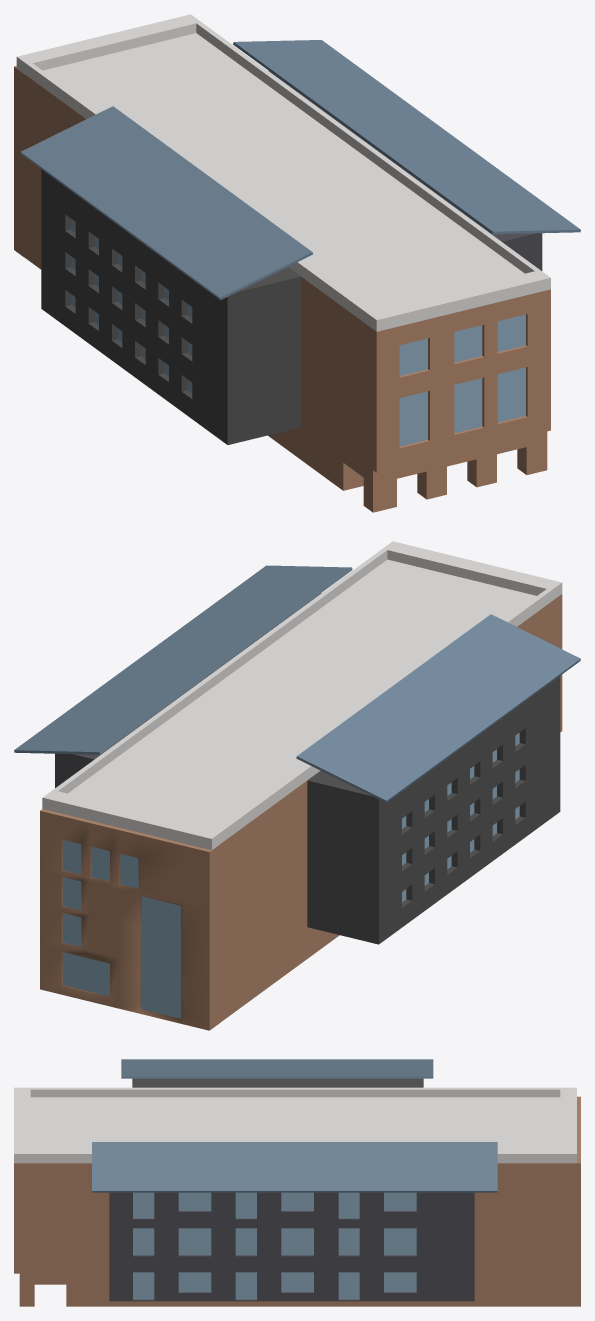
The model's file is pearl_bakery.glb.
The picture shows the model from 3 angles, top to bottom: view 1: azimuth 30°, elevation 25°; view 2: azimuth 150°, elevation 25°; view 3: azimuth 270°, elevation 25°; orthographic projection. The views are drawn at different scales.
Parts seen in each view (by area): view 1: Cube 2 (×3), Rectangle 3, Building, Cube (×2), Rectangle 2, Plane, Cube 3, Plane 3; view 2: Cube 2 (×3), Cube 3, Rectangle 3, Rectangle 2, Building, Plane 3 (×2), Cube; view 3: Cube 2 (×2), Cube (×2), Building, Rectangle 2, Plane 2, Rectangle 3, Cube 3.
Boxes of the visible parts, x1,y1,x2,y2 form: Cube 2 (×3): (16,14,550,444); Rectangle 3: (20,106,312,300); Building: (24,74,547,512); Cube (×2): (268,70,550,472); Rectangle 2: (233,40,580,234); Plane: (399,314,525,446); Cube 3: (14,66,24,257); Plane 3: (71,219,192,393); Cube 2 (×3): (42,541,562,944); Cube 3: (40,809,219,1030); Rectangle 3: (296,614,580,802); Rectangle 2: (14,565,352,754); Building: (220,596,558,1022); Plane 3 (×2): (63,733,519,1018); Cube: (55,593,321,787); Cube 2 (×2): (14,1078,576,1163); Cube (×2): (14,1163,474,1301); Building: (19,1163,577,1306); Rectangle 2: (92,1142,497,1192); Plane 2: (133,1192,416,1299); Rectangle 3: (121,1059,433,1078); Cube 3: (564,1096,580,1306).
Bounding box in the file's own units: 29.26 × 17.32 × 53.72.
